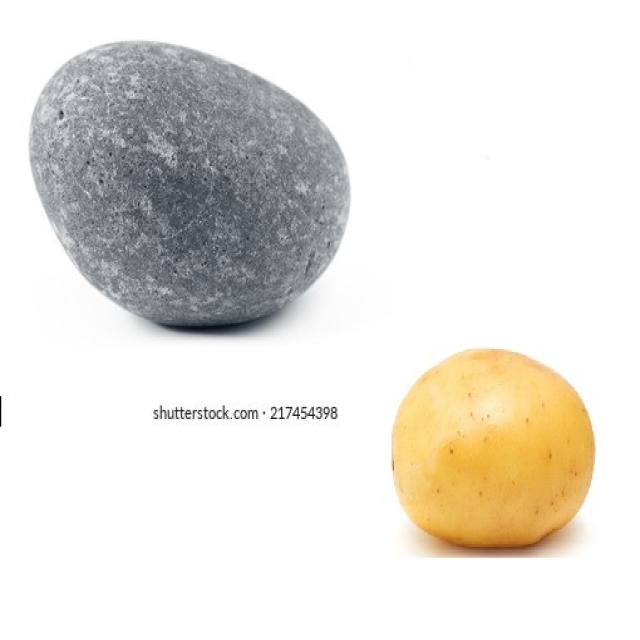potato: (391, 349, 595, 545)
